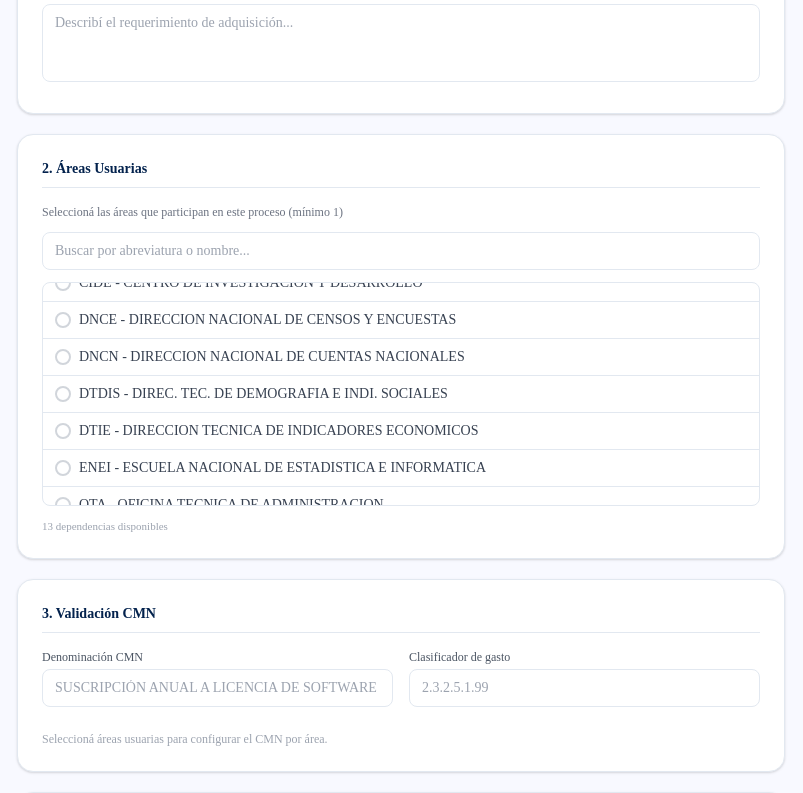
Test: S3 — CMN dynamic section › shows green banner when all areas have CMN = SI
(page scrolled)
// Select DTDIS via the searchable list
Step 1. Click the button with aria-label "Area DTDIS" → (401,393), box x1=43 y1=374 x2=759 y2=412
(page scrolled)
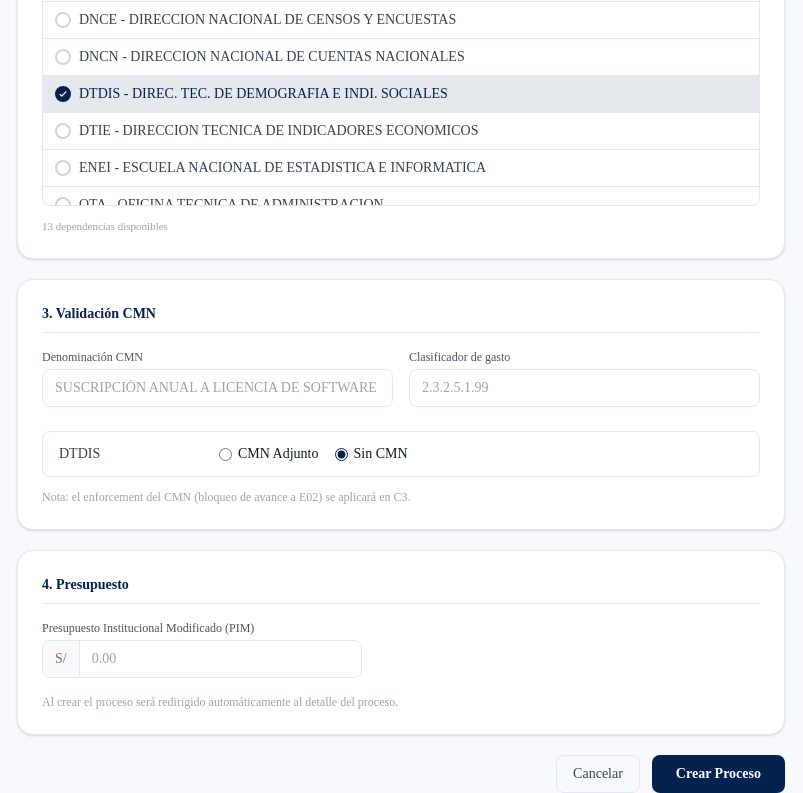
Expected: the text "Sin CMN" is shown once, x1=334 y1=444 x2=408 y2=464
Step 2. Click the radio button showing "SI" → (226,454), box x1=219 y1=448 x2=232 y2=460
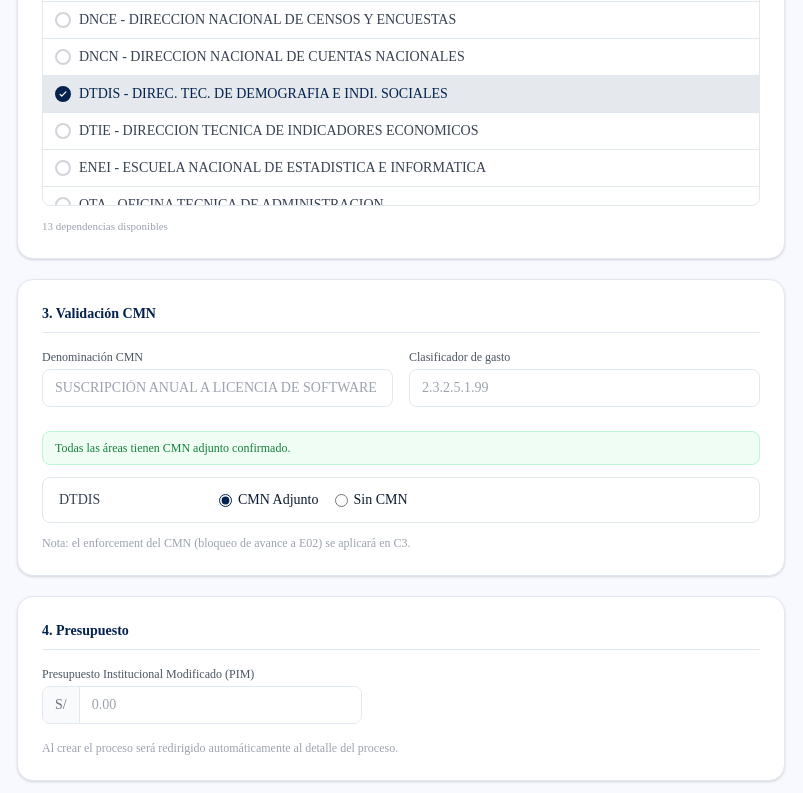
Expected: the text "Todas las áreas tienen CMN adjunto confirmado." is shown, x1=42 y1=431 x2=760 y2=465
